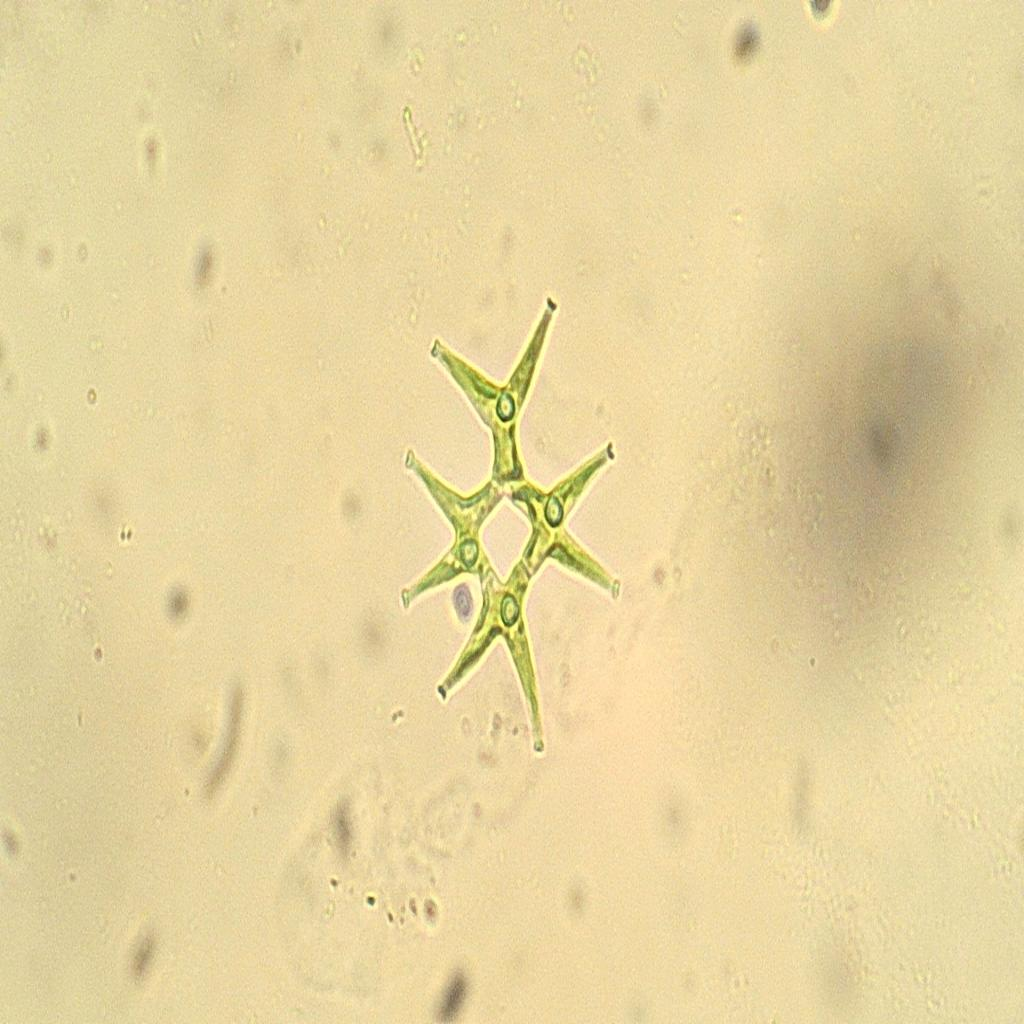Pediastrum_CT: (393, 280, 628, 773)
